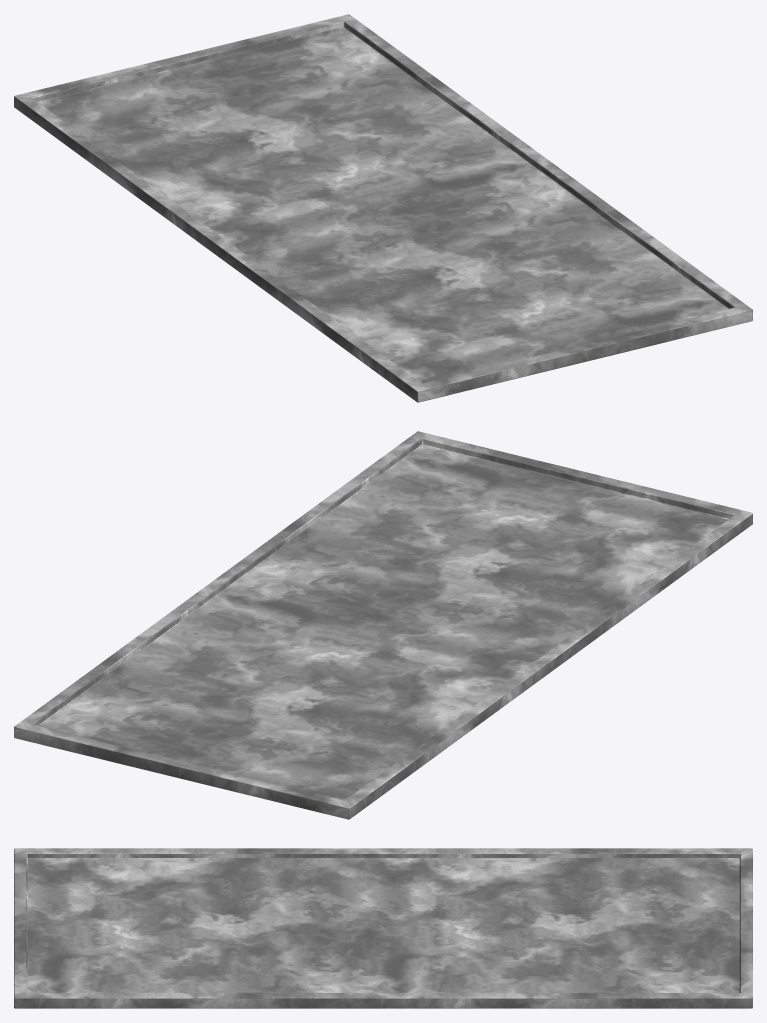
The model's file is SM_garden_large.fbx.
3 views of the same model, one above another, from view 1: azimuth 30°, elevation 25°; view 2: azimuth 150°, elevation 25°; view 3: azimuth 270°, elevation 25° (orthographic). The views are drawn at different scales.
Visible parts, largest first — view 1: SM_garden_large; view 2: SM_garden_large; view 3: SM_garden_large.
Boxes of the visible parts, left/top/right/bottom form: SM_garden_large: left=14, top=14, right=752, bottom=402; SM_garden_large: left=14, top=431, right=752, bottom=819; SM_garden_large: left=14, top=848, right=752, bottom=1008.
Size of the model in its own units: 415 by 865 by 14.32.
2 materials, 2 textured.
